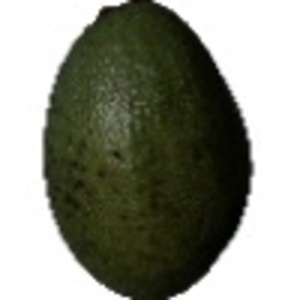abacate: (42, 1, 252, 297)
